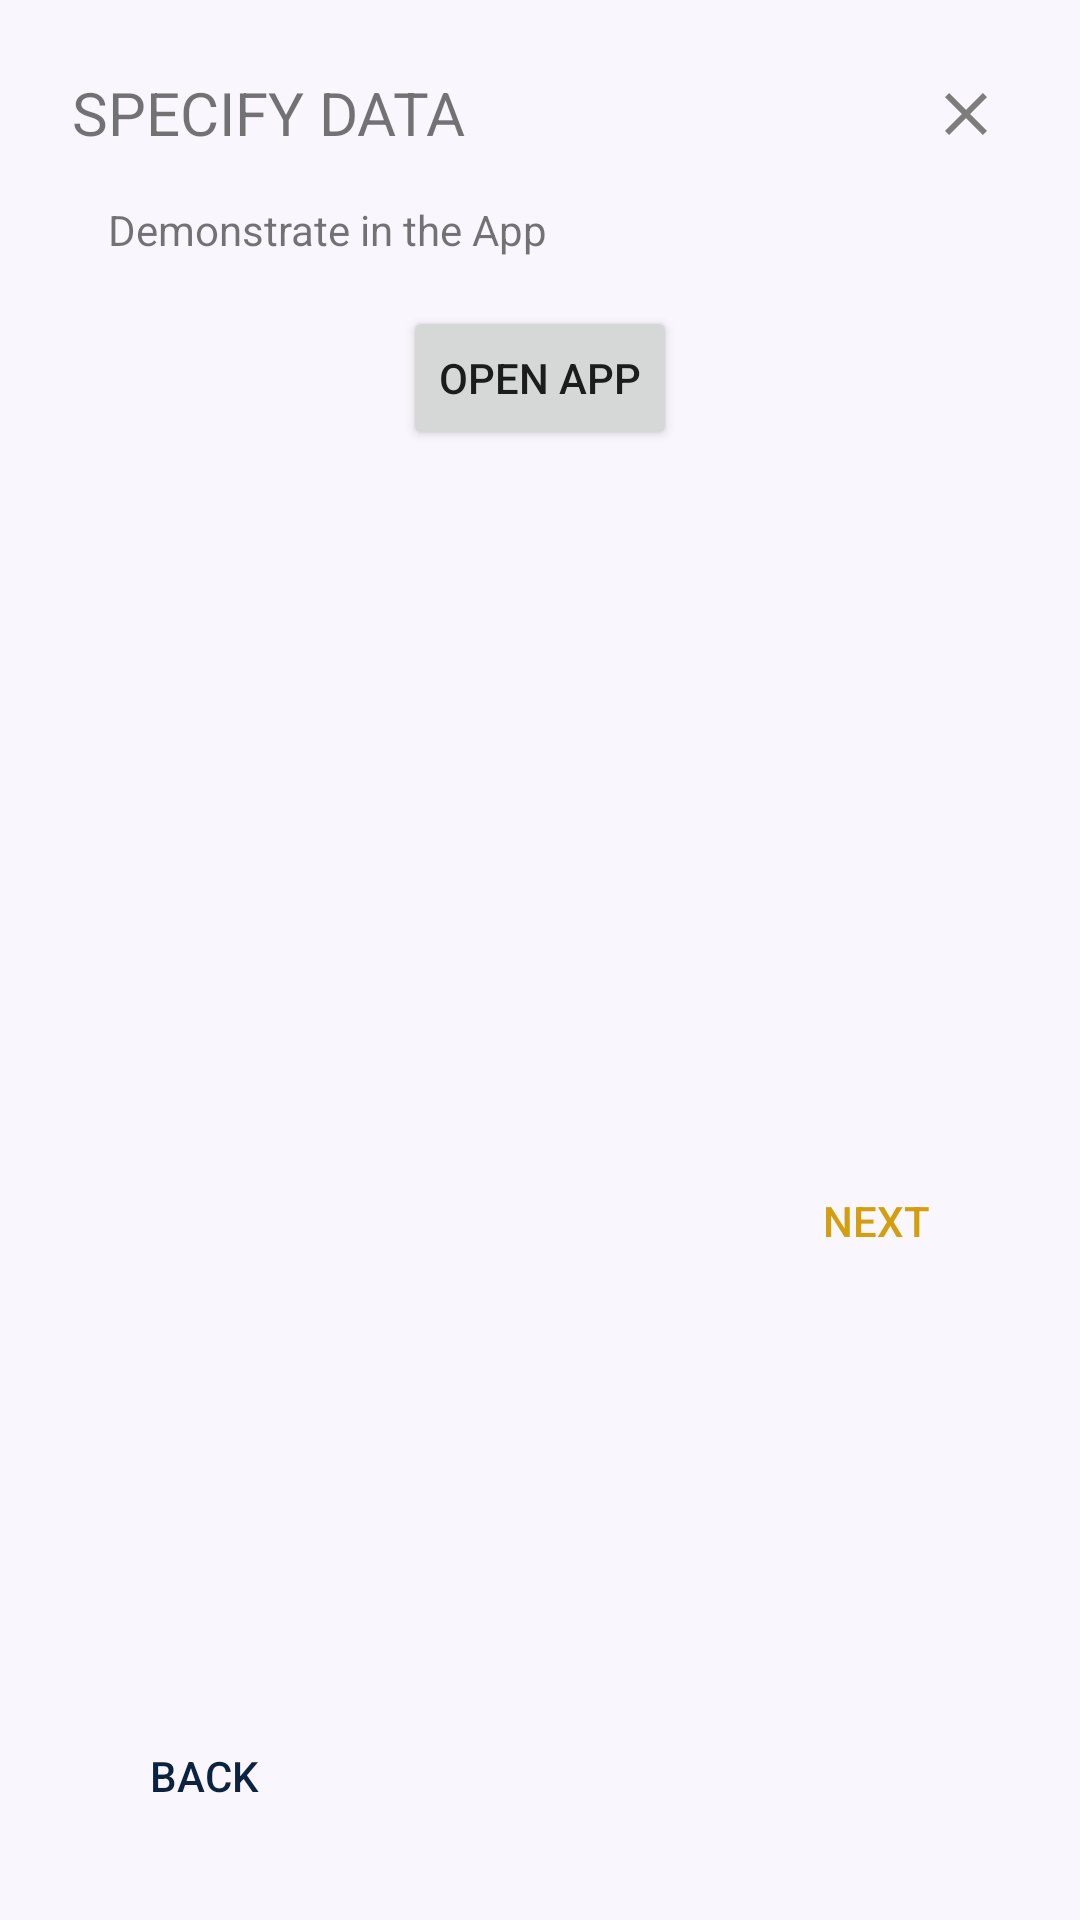

Locate icon controls on the screen. Image size 1080×1920, boxes as box(x1, y1, x2, y2).
close: box(945, 93, 987, 135)
